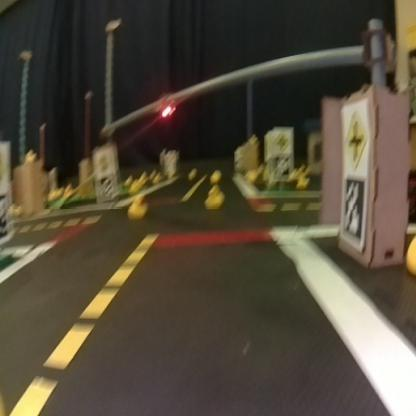duckie: (194, 182, 235, 216), (401, 211, 415, 290), (120, 188, 152, 220)
